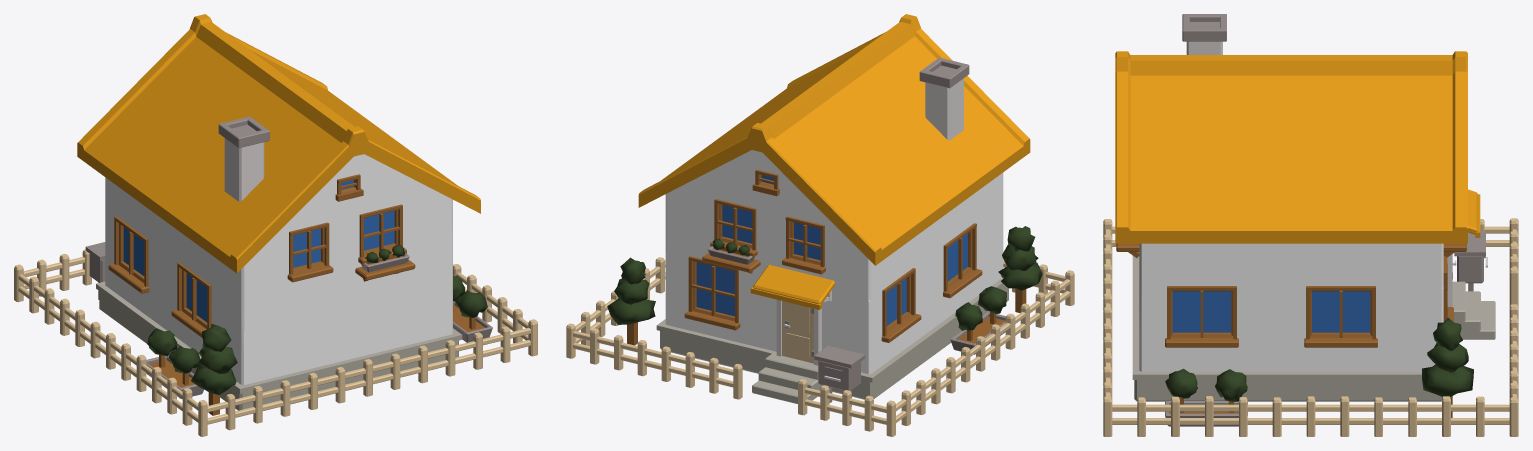
Rendered from BGHouse002_JC.fbx.
The picture shows the model from 3 angles, left to right: view 1: azimuth 30°, elevation 25°; view 2: azimuth 150°, elevation 25°; view 3: azimuth 270°, elevation 25°; orthographic projection. The views are drawn at different scales.
Visible parts, largest first — view 1: BGHouse002_JC; view 2: BGHouse002_JC; view 3: BGHouse002_JC.
Part boxes in pixels (x1,y1,x2,y2): BGHouse002_JC: (14, 14, 537, 436); BGHouse002_JC: (566, 14, 1074, 436); BGHouse002_JC: (1103, 14, 1518, 436).
Bounding box in the file's own units: 1019 × 758 × 985.
1 material, 1 textured.
